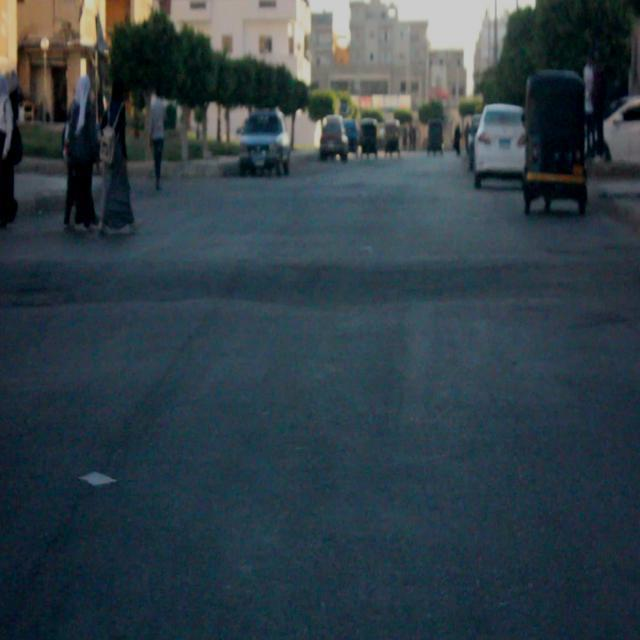NonMarked Bump: (15, 242, 618, 312)
